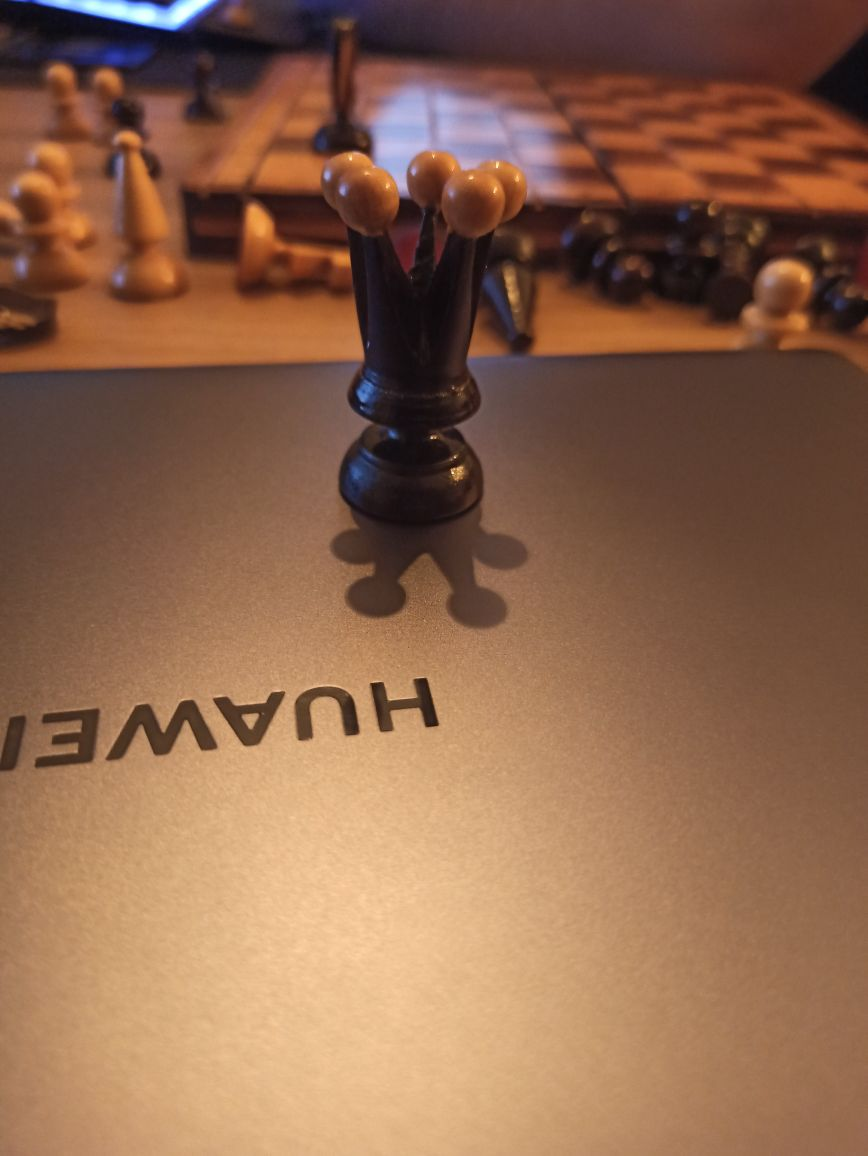bqueen: (319, 150, 525, 526)
